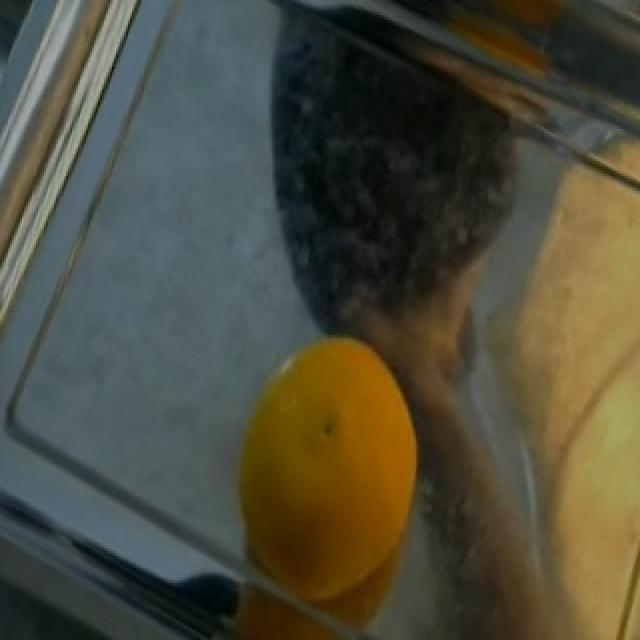Fruit: (210, 320, 442, 640)
